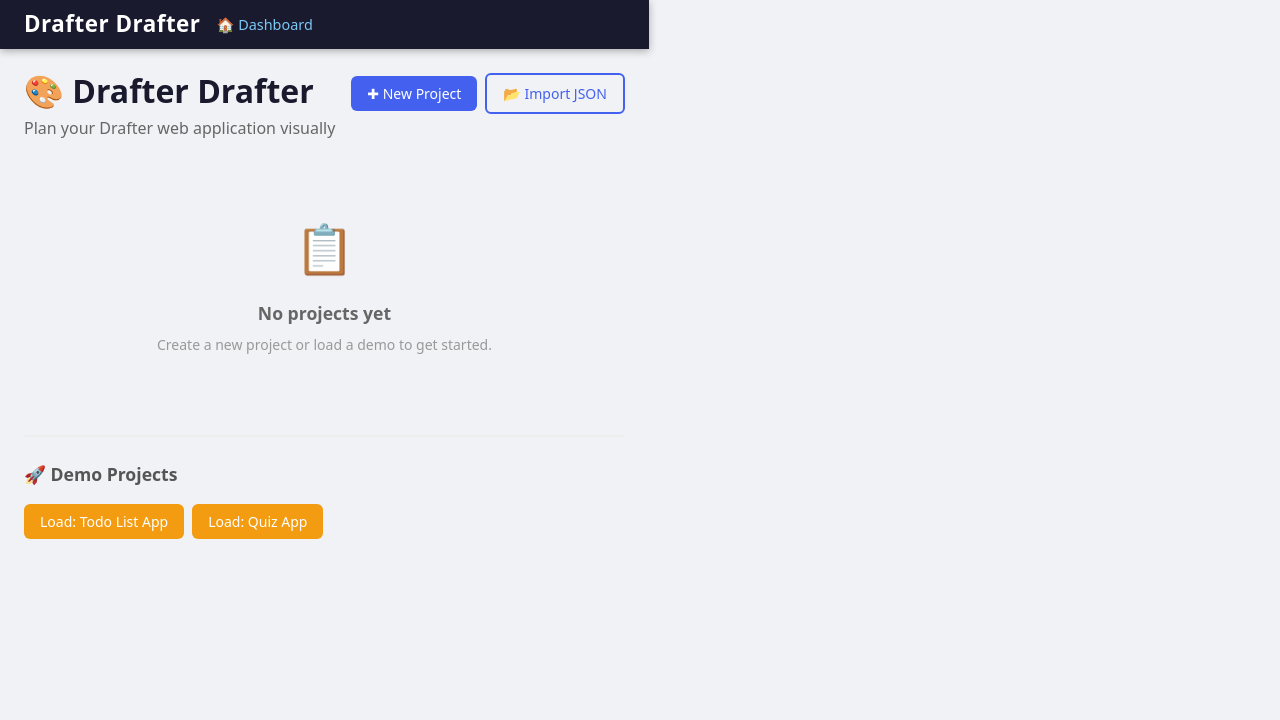
Test: Can open new project modal
The image size is (1280, 720).
Click the button "✚ New Project": x=414, y=93 [351,76,477,111]
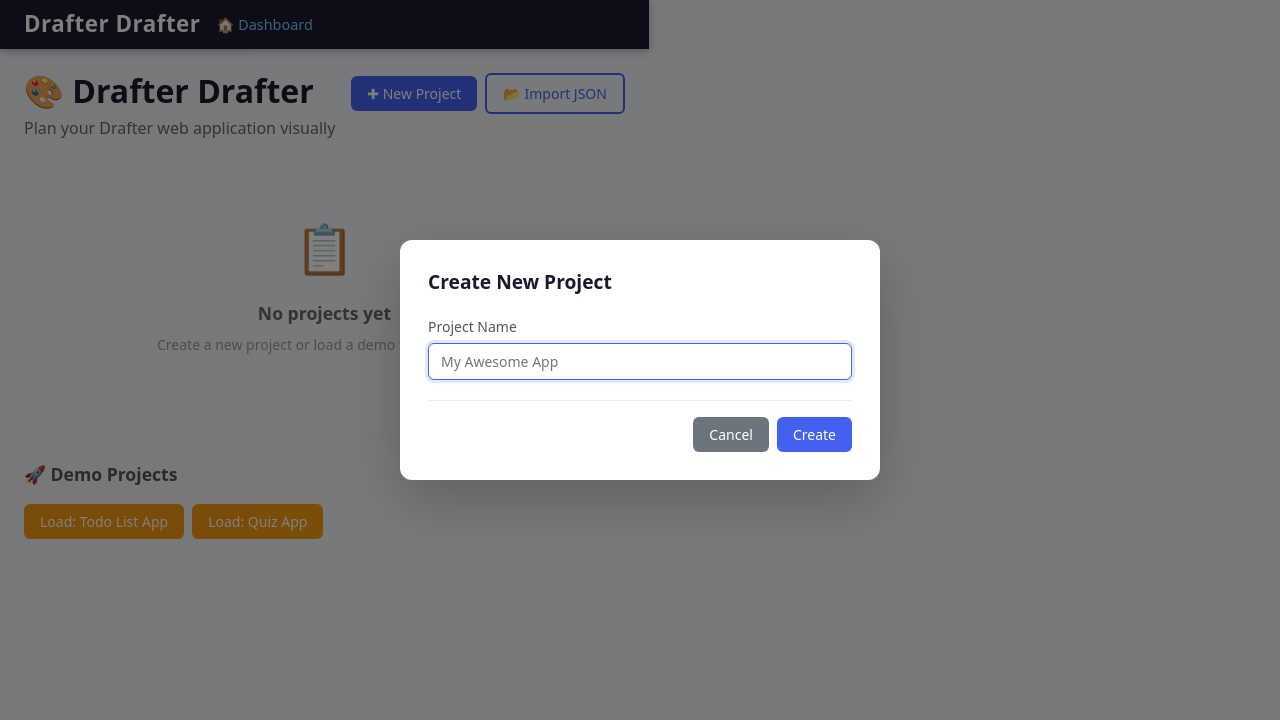
Now the heading "Create New Project" is shown, box [428,268,612,295]
